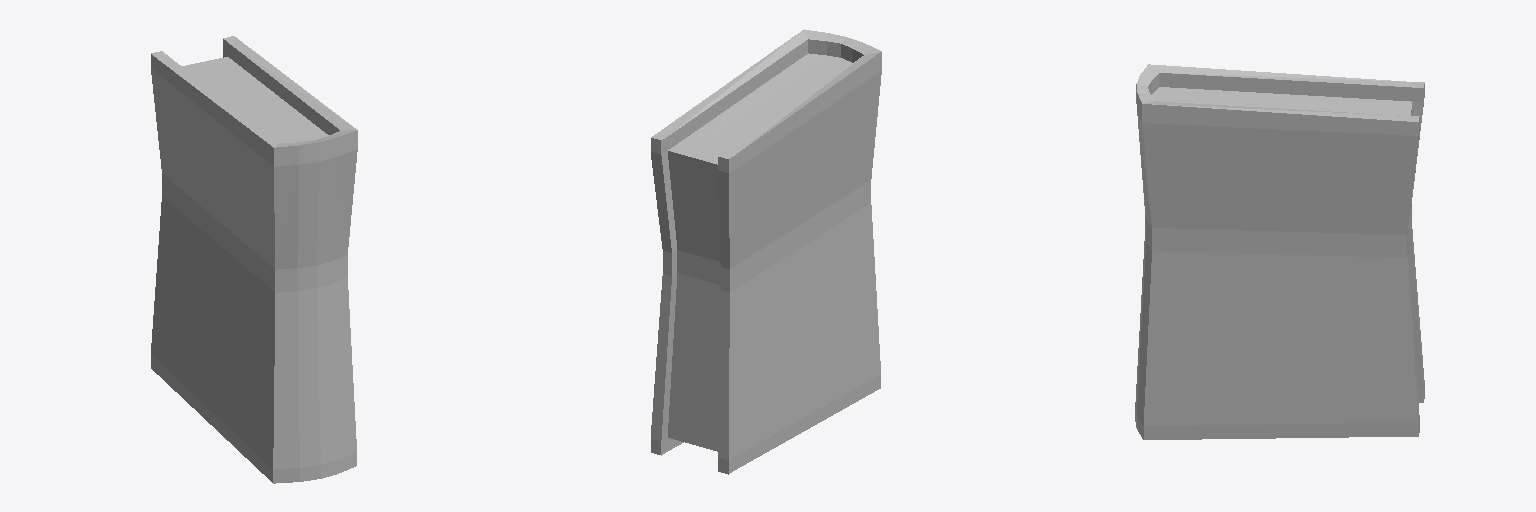
File: Book_geo_kitchen.obj
The picture shows the model from 3 angles: view 1: azimuth 30°, elevation 25°; view 2: azimuth 150°, elevation 25°; view 3: azimuth 270°, elevation 25°; orthographic projection.
Visible parts, largest first — view 1: Book_geo_kitchen:PinkBook; view 2: Book_geo_kitchen:PinkBook; view 3: Book_geo_kitchen:PinkBook.
Boxes of the visible parts, x1,y1,x2,y2 form: Book_geo_kitchen:PinkBook: [151, 36, 357, 483]; Book_geo_kitchen:PinkBook: [651, 29, 881, 474]; Book_geo_kitchen:PinkBook: [1135, 64, 1424, 439].
Bounding box in the file's own units: 222 × 741 × 578.